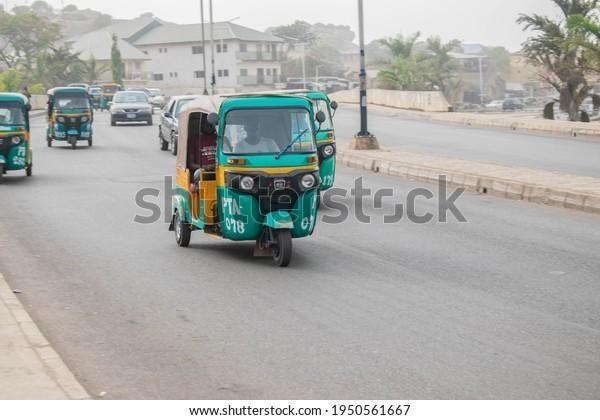keke: (173, 91, 339, 267), (45, 86, 93, 154), (0, 89, 32, 185)
